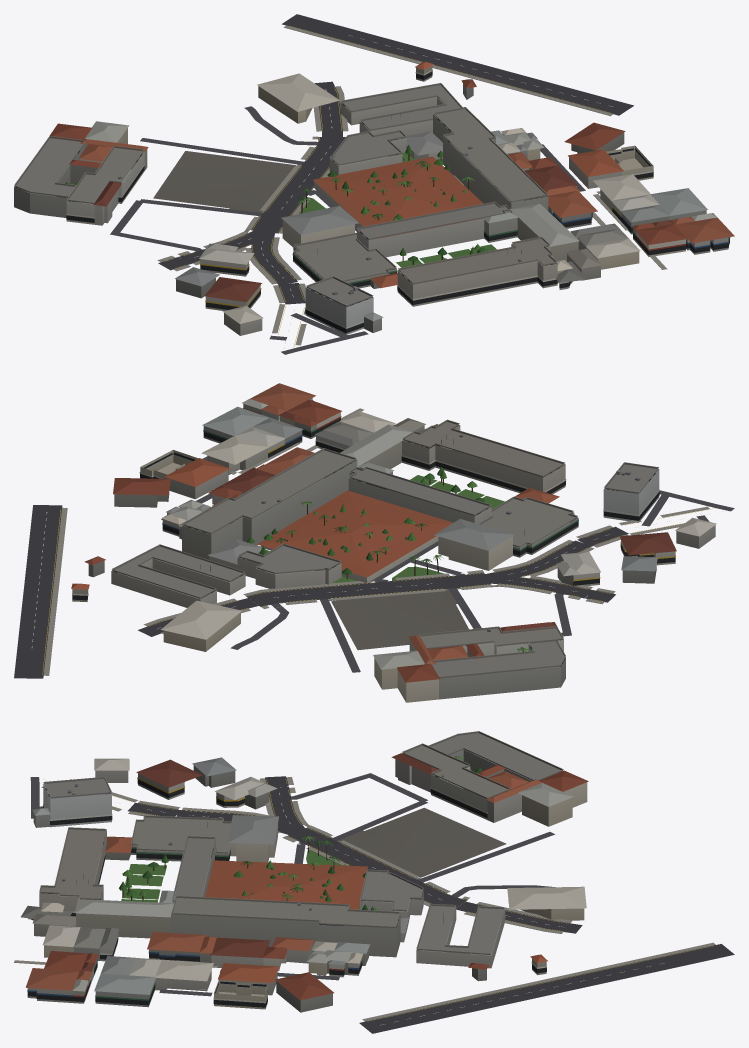
3 views of the same model, one above another, from view 1: azimuth 30°, elevation 25°; view 2: azimuth 150°, elevation 25°; view 3: azimuth 270°, elevation 25° (orthographic). The views are drawn at different scales.
Parts seen in each view (by area): view 1: Buildings__r-10c-5-col, Roads_Major__r-10c-5, HK Building-col, Landuse__r-10c-5, RB Building-col, IK Building-col, Sidewalks__r-10c-5-col, Roads_Minor__r-10c-5, Sergio Osmeña Gym-col, Windows__r-10c-5, Norton Hall-col, School Canteen-col (+4 smaller); view 2: Buildings__r-10c-5-col, Roads_Major__r-10c-5, RB Building-col, HK Building-col, Landuse__r-10c-5, Sidewalks__r-10c-5-col, IK Building-col, Sergio Osmeña Gym-col, Roads_Minor__r-10c-5, Norton Hall-col, School Canteen-col, Windows__r-10c-5 (+4 smaller); view 3: Buildings__r-10c-5-col, Roads_Major__r-10c-5, RB Building-col, Landuse__r-10c-5, HK Building-col, Sidewalks__r-10c-5-col, Sergio Osmeña Gym-col, Windows__r-10c-5, Roads_Minor__r-10c-5, GP Building-col, Norton Hall-col, School Canteen-col (+3 smaller).
Boxes of the visible parts, box(x1,y1,x2,y2) form: Buildings__r-10c-5-col: box(14, 61, 734, 335); Roads_Major__r-10c-5: box(158, 14, 633, 304); HK Building-col: box(397, 236, 557, 306); Landuse__r-10c-5: box(74, 151, 496, 267); RB Building-col: box(433, 107, 548, 212); IK Building-col: box(357, 201, 510, 257); Sidewalks__r-10c-5-col: box(157, 25, 667, 345); Roads_Minor__r-10c-5: box(110, 106, 585, 354); Sergio Osmeña Gym-col: box(292, 232, 397, 288); Windows__r-10c-5: box(16, 69, 730, 333); Norton Hall-col: box(329, 130, 406, 174); School Canteen-col: box(281, 206, 359, 247); Buildings__r-10c-5-col: box(71, 383, 716, 702); Roads_Major__r-10c-5: box(14, 505, 628, 678); RB Building-col: box(182, 448, 357, 559); HK Building-col: box(401, 419, 566, 494); Landuse__r-10c-5: box(258, 475, 504, 650); Sidewalks__r-10c-5-col: box(43, 408, 709, 675); IK Building-col: box(348, 466, 491, 523); Sergio Osmeña Gym-col: box(478, 496, 578, 557); Roads_Minor__r-10c-5: box(161, 456, 734, 672); Norton Hall-col: box(237, 543, 341, 588); School Canteen-col: box(434, 519, 514, 570); Windows__r-10c-5: box(72, 400, 675, 663); Buildings__r-10c-5-col: box(21, 731, 588, 1012); Roads_Major__r-10c-5: box(128, 776, 734, 1033); RB Building-col: box(171, 895, 400, 957); Landuse__r-10c-5: box(121, 807, 506, 909); HK Building-col: box(39, 827, 106, 916); Sidewalks__r-10c-5-col: box(14, 777, 715, 1021); Sergio Osmeña Gym-col: box(131, 815, 231, 861); Windows__r-10c-5: box(27, 767, 546, 1007); Roads_Minor__r-10c-5: box(30, 773, 555, 996); GP Building-col: box(75, 899, 175, 938); Norton Hall-col: box(360, 869, 423, 926); School Canteen-col: box(228, 815, 278, 862).
Size of the model in its own units: 312 by 16.19 by 337.
